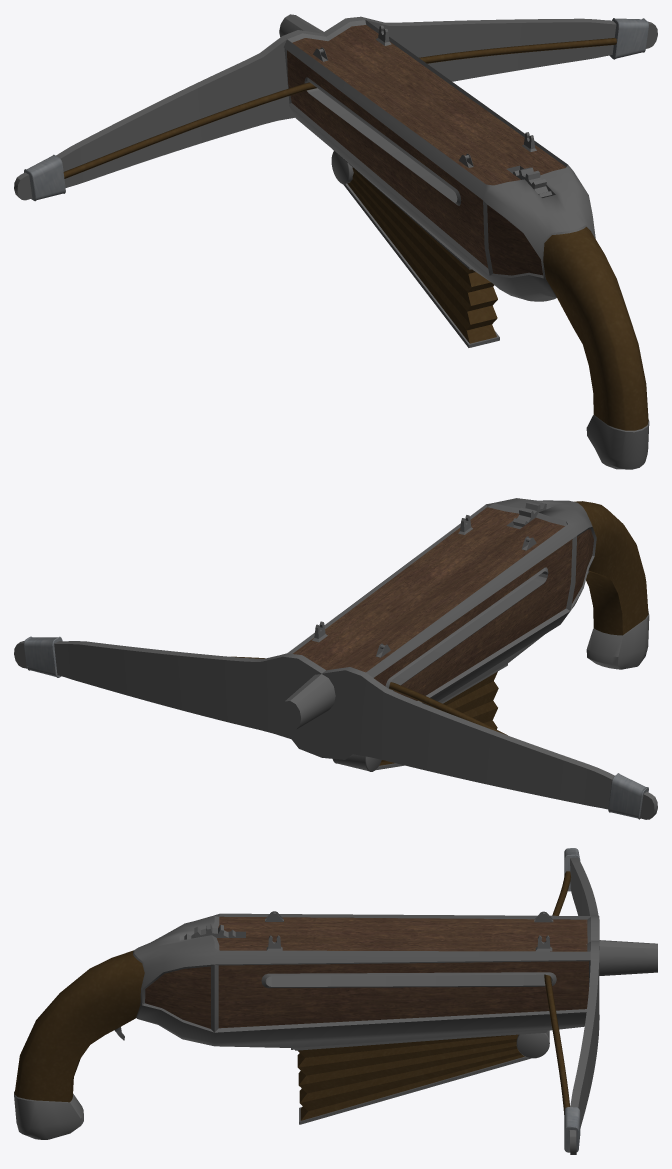
The model's file is xbow8.glb.
3 views of the same model, one above another, from view 1: azimuth 30°, elevation 25°; view 2: azimuth 150°, elevation 25°; view 3: azimuth 270°, elevation 25° (orthographic). The views are drawn at different scales.
Visible parts, largest first — view 1: Wood, Bow, Metal, Grip, MagBody, String, Brace, MagMetal; view 2: Bow, Wood, Metal, Grip, Brace, MagBody, String, MagMetal, Gear; view 3: Wood, Metal, MagBody, Grip, Bow, MagMetal, String, Brace.
Part boxes in pixels (x1,y1,x2,y2): Wood: [287, 25, 566, 275]; Bow: [14, 16, 657, 200]; Metal: [279, 14, 649, 469]; Grip: [543, 227, 648, 430]; MagBody: [347, 167, 497, 343]; String: [63, 38, 616, 178]; Brace: [24, 18, 648, 201]; MagMetal: [331, 151, 499, 347]; Bow: [14, 641, 657, 819]; Wood: [293, 507, 593, 700]; Metal: [279, 498, 649, 756]; Grip: [574, 501, 648, 635]; Brace: [24, 636, 648, 819]; MagBody: [379, 671, 498, 765]; String: [231, 656, 507, 735]; MagMetal: [332, 754, 404, 771]; Gear: [513, 501, 550, 528]; Wood: [145, 916, 588, 1028]; Metal: [14, 911, 657, 1139]; MagBody: [297, 1034, 524, 1120]; Grip: [14, 950, 144, 1102]; Bow: [569, 857, 599, 1154]; MagMetal: [295, 1030, 549, 1124]; String: [544, 871, 570, 1114]; Brace: [564, 848, 580, 1152].
Size of the model in its own units: 4.8 by 1.65 by 4.52.
Materials: 1 (1 with a texture image).
